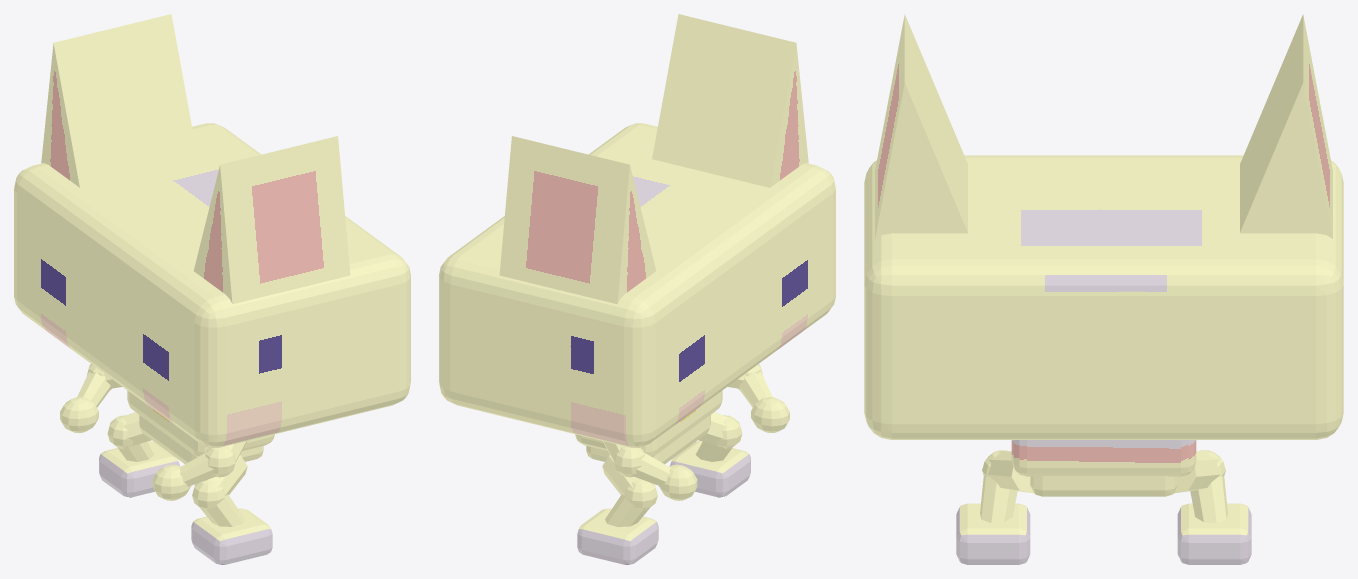
Rendered from rider.glb.
3 views of the same model, side by side, from view 1: azimuth 30°, elevation 25°; view 2: azimuth 150°, elevation 25°; view 3: azimuth 270°, elevation 25° (orthographic). The views are drawn at different scales.
Visible parts, largest first — view 1: RiderClassic_static_seated; view 2: RiderClassic_static_seated; view 3: RiderClassic_static_seated.
Boxes of the visible parts, box(x1,y1,x2,y2) form: RiderClassic_static_seated: box(14, 14, 410, 564); RiderClassic_static_seated: box(439, 14, 835, 564); RiderClassic_static_seated: box(864, 14, 1343, 564).
Size of the model in its own units: 8.35 by 15.91 by 13.57.
1 material, 1 textured.
